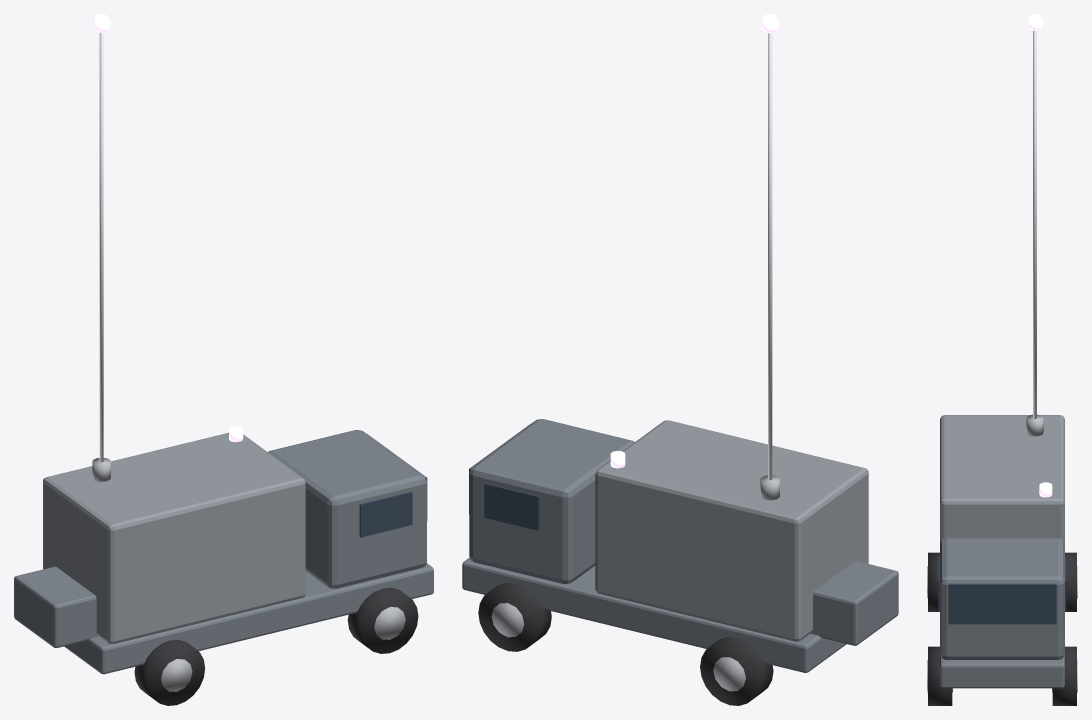
The model's file is transmitter.glb.
3 renders of one model, left to right at view 1: azimuth 30°, elevation 25°; view 2: azimuth 150°, elevation 25°; view 3: azimuth 270°, elevation 25°, orthographic. The views are drawn at different scales.
Parts seen in each view (by area): view 1: EquipmentBox, Cab, Chassis, Generator, Tyre2.2-1, Tyre-1.9-1, Whip, SideWindow-1, Rim-1.9-1, Rim2.2-1; view 2: EquipmentBox, Cab, Chassis, Generator, Tyre-1.91, Tyre2.21, Whip, SideWindow1, Rim-1.91, Rim2.21; view 3: EquipmentBox, Cab, Windscreen, Chassis, Whip, Tyre2.2-1, Tyre2.21, Tyre-1.9-1, Tyre-1.91, WhipMount.
Boxes of the visible parts, x1=… form: EquipmentBox: x1=43, y1=432, x2=305, y2=643; Cab: x1=268, y1=430, x2=426, y2=588; Chassis: x1=64, y1=563, x2=433, y2=674; Generator: x1=14, y1=566, x2=98, y2=647; Tyre2.2-1: x1=347, y1=587, x2=418, y2=653; Tyre-1.9-1: x1=134, y1=640, x2=205, y2=705; Whip: x1=99, y1=32, x2=103, y2=462; SideWindow-1: x1=359, y1=491, x2=412, y2=537; Rim-1.9-1: x1=161, y1=659, x2=192, y2=691; Rim2.2-1: x1=374, y1=607, x2=405, y2=639; EquipmentBox: x1=595, y1=420, x2=868, y2=641; Cab: x1=469, y1=419, x2=634, y2=583; Chassis: x1=462, y1=557, x2=846, y2=672; Generator: x1=811, y1=561, x2=898, y2=645; Tyre-1.91: x1=700, y1=637, x2=773, y2=705; Tyre2.21: x1=478, y1=583, x2=551, y2=651; Whip: x1=768, y1=33, x2=772, y2=480; SideWindow1: x1=484, y1=483, x2=539, y2=530; Rim-1.91: x1=713, y1=657, x2=745, y2=691; Rim2.21: x1=491, y1=603, x2=523, y2=637; EquipmentBox: x1=940, y1=415, x2=1064, y2=543; Cab: x1=940, y1=538, x2=1064, y2=659; Windscreen: x1=948, y1=583, x2=1056, y2=624; Chassis: x1=940, y1=654, x2=1064, y2=688; Whip: x1=1033, y1=30, x2=1036, y2=418; Tyre2.2-1: x1=928, y1=646, x2=952, y2=705; Tyre2.21: x1=1052, y1=646, x2=1076, y2=705; Tyre-1.9-1: x1=928, y1=552, x2=939, y2=611; Tyre-1.91: x1=1065, y1=552, x2=1076, y2=611; WhipMount: x1=1026, y1=414, x2=1043, y2=436.
Bounding box in the file's own units: 7.05 × 11.96 × 2.77.
